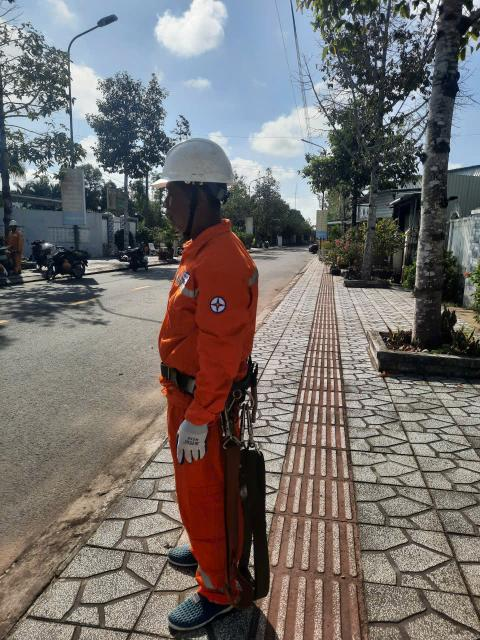gloves: (166, 414, 222, 459)
harness: (151, 350, 274, 412)
helmet: (136, 132, 272, 213)
shoes: (160, 574, 247, 635), (165, 531, 233, 576)
